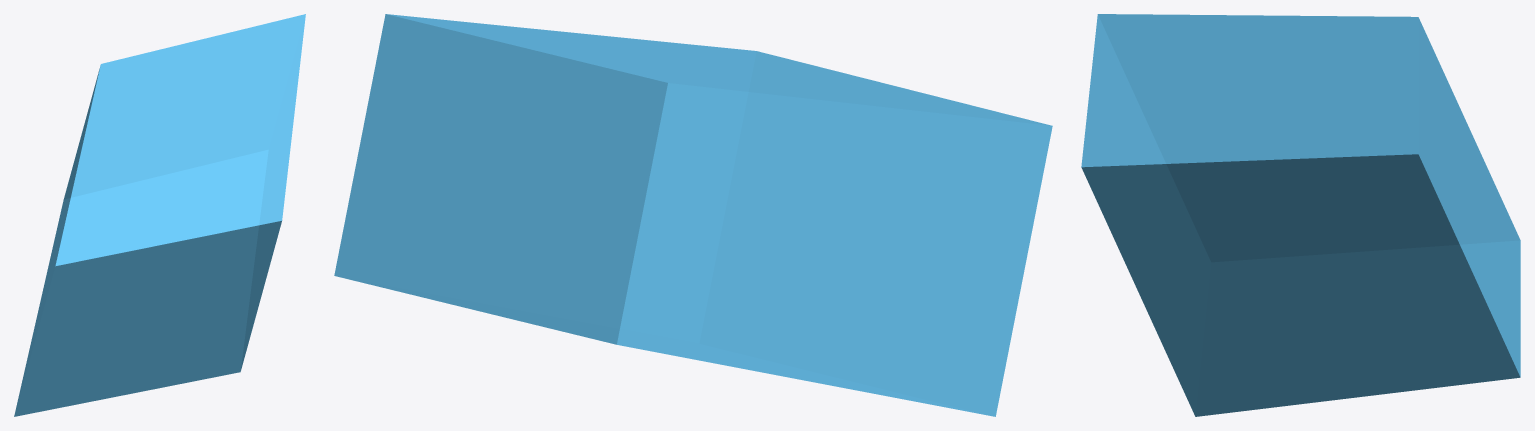
The model's file is Event_421278790_HBrechit_10.fbx.
3 renders of one model, left to right at view 1: azimuth 30°, elevation 25°; view 2: azimuth 150°, elevation 25°; view 3: azimuth 270°, elevation 25°, orthographic. The views are drawn at different scales.
Parts seen in each view (by area): view 1: Model; view 2: Model; view 3: Model.
Part boxes in pixels (x1=…): Model: x1=14, y1=14, x2=305, y2=416; Model: x1=334, y1=14, x2=1052, y2=416; Model: x1=1081, y1=14, x2=1520, y2=416.
Size of the model in its own units: 0.8762 by 0.5993 by 0.6611.
